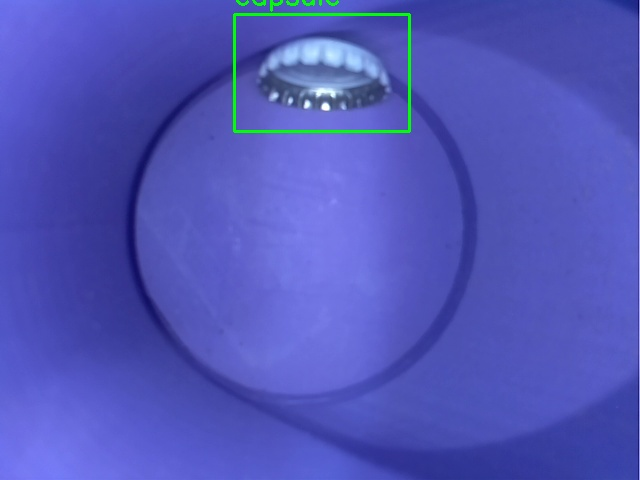capsule: (234, 14, 409, 131)
